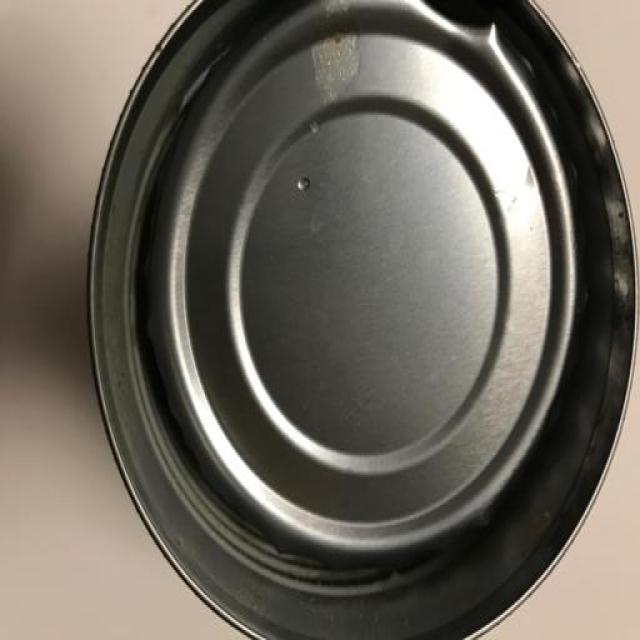Metal: (85, 0, 639, 640)
